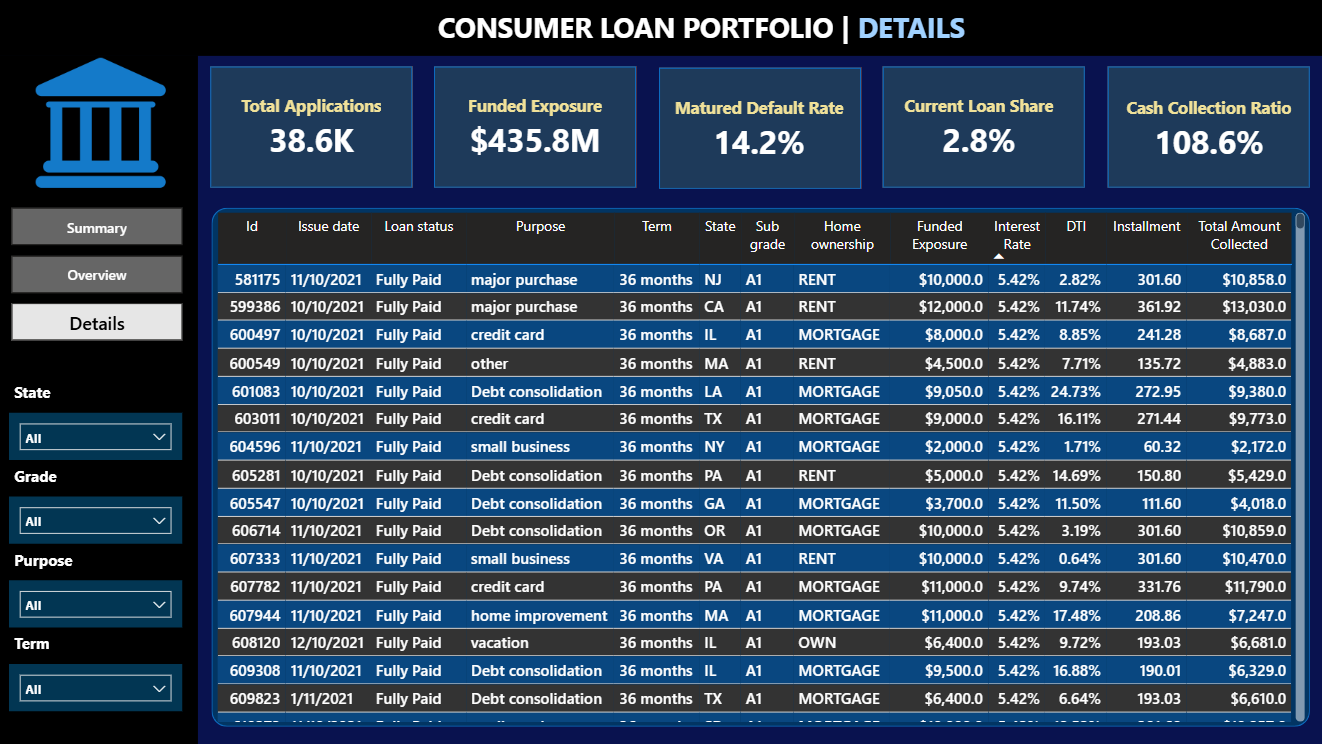

This screenshot's page, from the dashboard's own definition file:
{"tool":"powerbi","page":{"name":"Details","canvas":[1280,720],"ordinal":2},"visuals":[{"type":"shape","box":[0,0,1280.3,54.9],"z":0},{"type":"shape","box":[203.7,65.3,195,117],"z":0,"group":"g5"},{"type":"shape","box":[419.7,65.3,195,117],"z":0,"group":"g1"},{"type":"shape","box":[852.8,65.3,195,117],"z":0,"group":"g3"},{"type":"shape","box":[1069.9,65.3,195,117],"z":0,"group":"g4"},{"type":"shape","box":[636.8,65.9,195,117],"z":0,"group":"g2"},{"type":"cardVisual","fields":{"Data":["_Measure.Total Applications"]},"box":[192,53.1,206.1,96.1],"z":1000,"group":"g5"},{"type":"cardVisual","fields":{"Data":["_Measure.Funded Exposure"]},"box":[408,53.1,206.1,96.1],"z":1000,"group":"g1"},{"type":"cardVisual","fields":{"Data":["bank_loan_data.Total Amout Received"]},"box":[627.6,53.1,206.1,96.1],"z":1000,"group":"g2"},{"type":"cardVisual","fields":{"Data":["bank_loan_data.Average Interest Rate"]},"box":[841.1,53.1,206.1,96.1],"z":1000,"group":"g3"},{"type":"cardVisual","fields":{"Data":["bank_loan_data.Average DTI"]},"box":[1058.2,53.1,206.1,96.1],"z":1000,"group":"g4"},{"type":"shape","box":[0,54.3,192,666],"z":1000},{"type":"textbox","box":[418.8,3.8,538.8,52.5],"z":2000},{"type":"cardVisual","fields":{"Data":["bank_loan_data.MTD Loan Applications"]},"box":[191.8,113.4,128.1,72.4],"z":2000,"group":"g5"},{"type":"cardVisual","fields":{"Data":["bank_loan_data.MTD Funded Amount"]},"box":[407.8,113.4,128.1,72.4],"z":2000,"group":"g1"},{"type":"cardVisual","fields":{"Data":["bank_loan_data.MTD Interest Rate"]},"box":[840.9,113.4,128.1,72.4],"z":2000,"group":"g3"},{"type":"cardVisual","fields":{"Data":["bank_loan_data.MTD DTI"]},"box":[1058,113.4,128.1,72.4],"z":2000,"group":"g4"},{"type":"cardVisual","fields":{"Data":["bank_loan_data.MTD Amount Received"]},"box":[624.9,114,128.1,72.4],"z":2000,"group":"g2"},{"type":"cardVisual","fields":{"Data":["bank_loan_data.MoM Loan Applications"]},"box":[283.5,113.4,128.1,72.4],"z":3000,"group":"g5"},{"type":"cardVisual","fields":{"Data":["bank_loan_data.MoM Funded Amounts"]},"box":[499.5,113.4,128.1,72.4],"z":3000,"group":"g1"},{"type":"cardVisual","fields":{"Data":["bank_loan_data.MoM Interest rate"]},"box":[932.6,113.4,128.1,72.4],"z":3000,"group":"g3"},{"type":"cardVisual","fields":{"Data":["bank_loan_data.MoM DTI"]},"box":[1149.7,113.4,128.1,72.4],"z":3000,"group":"g4"},{"type":"cardVisual","fields":{"Data":["bank_loan_data.MoM Amount Receied"]},"box":[716.6,114,128.1,72.4],"z":3000,"group":"g2"},{"type":"shape","box":[204.5,201.7,1060.2,500.9],"z":3000},{"type":"tableEx","fields":{"Values":["bank_loan_data.id","bank_loan_data.issue_date","bank_loan_data.loan_status","bank_loan_data.purpose","bank_loan_data.term","bank_loan_data.address_state","bank_loan_data.sub_grade","bank_loan_data.home_ownership","_Measure.Funded Exposure","bank_loan_data.int_rate","bank_loan_data.dti","bank_loan_data.installment"]},"box":[205.1,201.5,1060.5,500.7],"z":4000},{"type":"image","box":[31.4,56.7,133.9,125.5],"z":5000},{"type":"pageNavigator","box":[12.5,201.7,165.6,130.8],"z":6000},{"type":"group","id":"g1","title":"Group 2","box":[407.8,53.1,220.8,132.7],"z":7000},{"type":"group","id":"g2","title":"Group 2","box":[624.9,53.1,219.6,132.7],"z":8000},{"type":"group","id":"g3","title":"Group 2","box":[840.9,53.1,220.8,132.7],"z":9000},{"type":"group","id":"g4","title":"Group 2","box":[1058,53.1,220.8,132.7],"z":10000},{"type":"group","id":"g5","title":"Group 1","box":[191.8,53.1,219.6,132.7],"z":11000},{"type":"shape","box":[852.8,65.3,195,117],"z":12000},{"type":"shape","box":[1069.9,65.3,195,117],"z":13000},{"type":"shape","box":[203.7,65.3,195,117],"z":14000},{"type":"shape","box":[419.7,65.3,195,117],"z":15000},{"type":"cardVisual","fields":{"Data":["_Measure.Funded Exposure"]},"box":[419.8,65.6,195.2,117.5],"z":16000},{"type":"cardVisual","fields":{"Data":["_Measure.Cash Collection Ratio"]},"box":[1056.7,68,222.2,116.6],"z":17000},{"type":"shape","box":[636.8,65.9,195,117],"z":18000},{"type":"cardVisual","fields":{"Data":["_Measure.Current Loan Share"]},"box":[843,65.6,205.6,117.5],"z":19000},{"type":"cardVisual","fields":{"Data":["_Measure.Total Applications"]},"box":[203.8,65.6,195.2,117.5],"z":20000},{"type":"cardVisual","fields":{"Data":["_Measure.Matured Default Rate"]},"box":[620.7,66.7,227.7,118],"z":21000},{"type":"slicer","title":"State","fields":{"Values":["bank_loan_data.grade"]},"box":[10,480,167,45.9],"z":22000},{"type":"textbox","box":[10,445,91.8,34.8],"z":23000},{"type":"slicer","title":"State","fields":{"Values":["bank_loan_data.purpose"]},"box":[10,561,167,45.9],"z":24000},{"type":"textbox","box":[10,526,91.8,34.8],"z":25000},{"type":"slicer","title":"State","fields":{"Values":["bank_loan_data.term","bank_loan_data.purpose"]},"box":[10,642,167,45.9],"z":26000},{"type":"textbox","box":[10,607.1,91.8,34.8],"z":27000},{"type":"slicer","title":"State","fields":{"Values":["bank_loan_data.address_state"]},"box":[10,398.9,167,45.9],"z":28000},{"type":"textbox","box":[10,363.7,93.8,35],"z":29000}]}

Visuals, with their boxes in screenshot pixels (x1, y1, x2, y2), scaled from the page's 1280x720 canvas onto the 1322x744 screenshot:
shape: rect(0, 0, 1321, 57)
shape: rect(210, 67, 412, 188)
shape: rect(433, 67, 635, 188)
shape: rect(881, 67, 1082, 188)
shape: rect(1105, 67, 1306, 188)
shape: rect(658, 68, 859, 189)
cardVisual - _Measure.Total Applications: rect(198, 55, 411, 154)
cardVisual - _Measure.Funded Exposure: rect(421, 55, 634, 154)
cardVisual - bank_loan_data.Total Amout Received: rect(648, 55, 861, 154)
cardVisual - bank_loan_data.Average Interest Rate: rect(869, 55, 1082, 154)
cardVisual - bank_loan_data.Average DTI: rect(1093, 55, 1306, 154)
shape: rect(0, 56, 198, 743)
textbox: rect(433, 4, 989, 58)
cardVisual - bank_loan_data.MTD Loan Applications: rect(198, 117, 330, 192)
cardVisual - bank_loan_data.MTD Funded Amount: rect(421, 117, 553, 192)
cardVisual - bank_loan_data.MTD Interest Rate: rect(868, 117, 1001, 192)
cardVisual - bank_loan_data.MTD DTI: rect(1093, 117, 1225, 192)
cardVisual - bank_loan_data.MTD Amount Received: rect(645, 118, 778, 193)
cardVisual - bank_loan_data.MoM Loan Applications: rect(293, 117, 425, 192)
cardVisual - bank_loan_data.MoM Funded Amounts: rect(516, 117, 648, 192)
cardVisual - bank_loan_data.MoM Interest rate: rect(963, 117, 1096, 192)
cardVisual - bank_loan_data.MoM DTI: rect(1187, 117, 1320, 192)
cardVisual - bank_loan_data.MoM Amount Receied: rect(740, 118, 872, 193)
shape: rect(211, 208, 1306, 726)
tableEx - bank_loan_data.id x bank_loan_data.issue_date: rect(212, 208, 1307, 726)
image: rect(32, 59, 171, 188)
pageNavigator: rect(13, 208, 184, 344)
"Group 2" group: rect(421, 55, 649, 192)
"Group 2" group: rect(645, 55, 872, 192)
"Group 2" group: rect(868, 55, 1097, 192)
"Group 2" group: rect(1093, 55, 1321, 192)
"Group 1" group: rect(198, 55, 425, 192)
shape: rect(881, 67, 1082, 188)
shape: rect(1105, 67, 1306, 188)
shape: rect(210, 67, 412, 188)
shape: rect(433, 67, 635, 188)
cardVisual - _Measure.Funded Exposure: rect(434, 68, 635, 189)
cardVisual - _Measure.Cash Collection Ratio: rect(1091, 70, 1321, 191)
shape: rect(658, 68, 859, 189)
cardVisual - _Measure.Current Loan Share: rect(871, 68, 1083, 189)
cardVisual - _Measure.Total Applications: rect(210, 68, 412, 189)
cardVisual - _Measure.Matured Default Rate: rect(641, 69, 876, 191)
"State" slicer: rect(10, 496, 183, 543)
textbox: rect(10, 460, 105, 496)
"State" slicer: rect(10, 580, 183, 627)
textbox: rect(10, 544, 105, 579)
"State" slicer: rect(10, 663, 183, 711)
textbox: rect(10, 627, 105, 663)
"State" slicer: rect(10, 412, 183, 460)
textbox: rect(10, 376, 107, 412)
